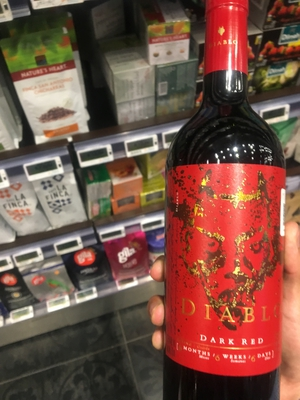diablo dark red: (157, 18, 293, 371)
